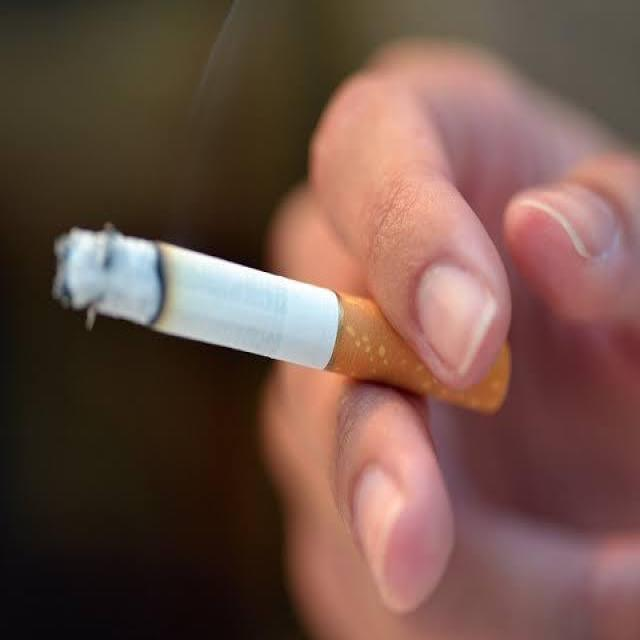rokok: (57, 232, 516, 412)
